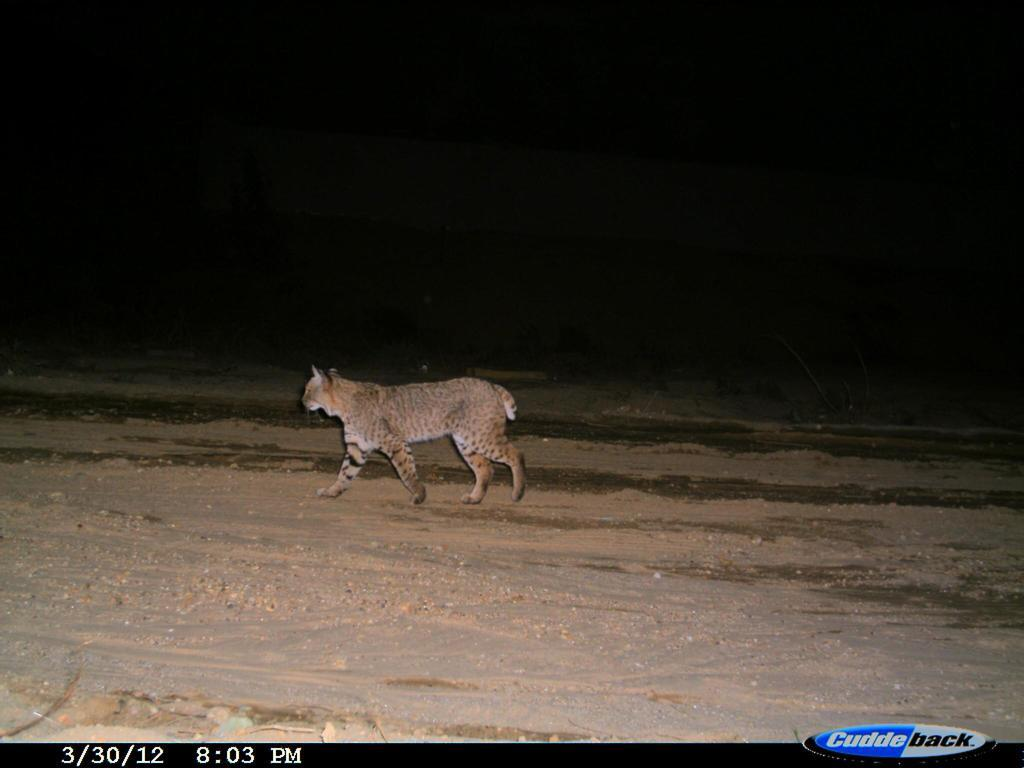bobcat: (293, 361, 540, 529)
